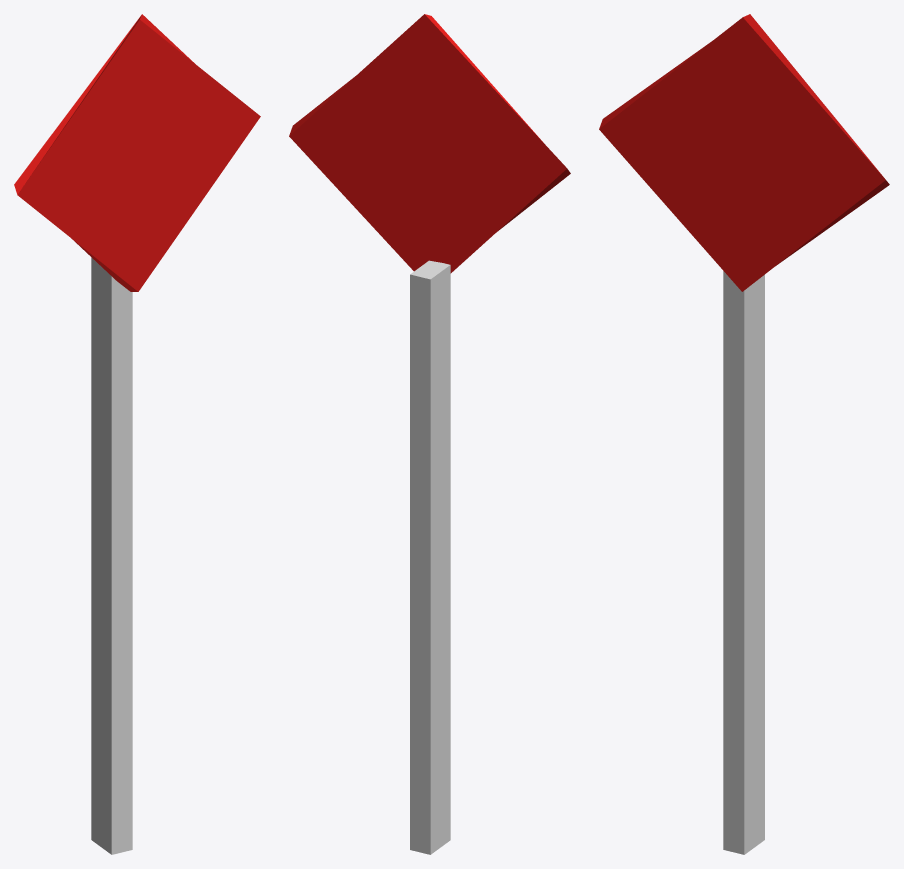
The model's file is stopSign.dae.
The picture shows the model from 3 angles, left to right: view 1: azimuth 30°, elevation 25°; view 2: azimuth 150°, elevation 25°; view 3: azimuth 330°, elevation 25°; orthographic projection. The views are drawn at different scales.
Parts seen in each view (by area): view 1: Cube.001, Cube; view 2: Cube.001, Cube; view 3: Cube.001, Cube.
Part boxes in pixels (box(x1,y1,x2,y2)): Cube.001: box(14, 14, 260, 291); Cube: box(91, 257, 132, 854); Cube.001: box(289, 14, 570, 273); Cube: box(410, 260, 450, 854); Cube.001: box(599, 14, 889, 291); Cube: box(723, 271, 764, 854).
Size of the model in its own units: 0.549 by 0.1251 by 1.66.
